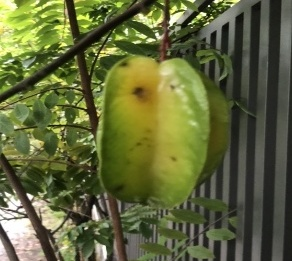Khe: (97, 52, 229, 214)
